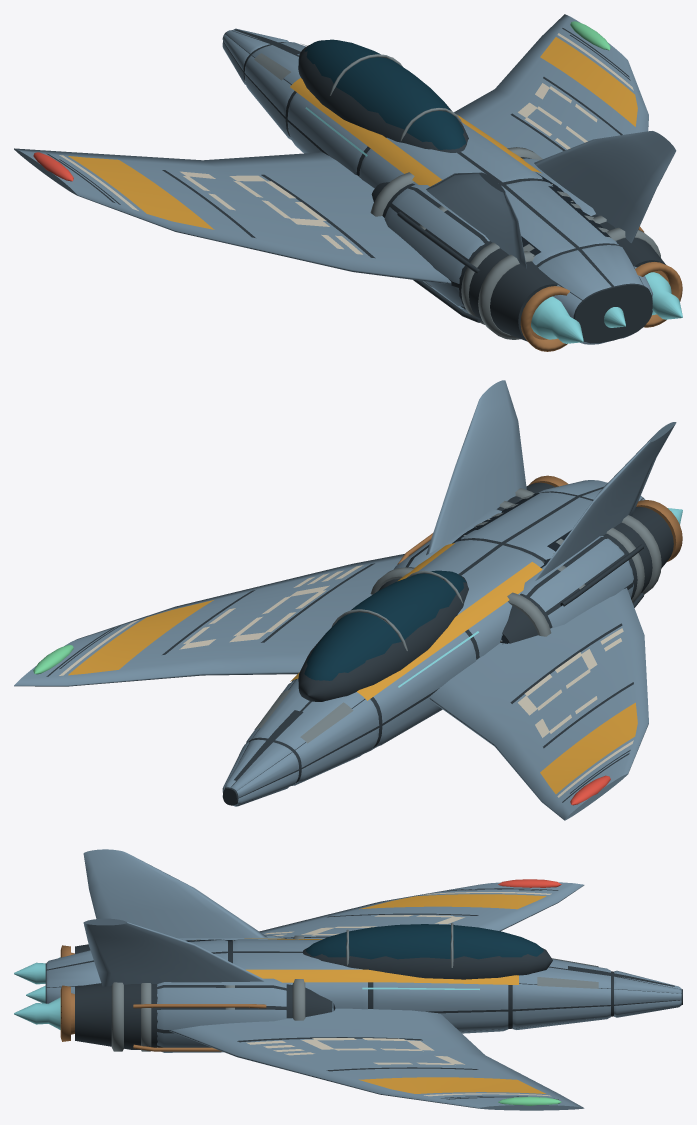
Rendered from hawk.glb.
3 renders of one model, top to bottom at view 1: azimuth 30°, elevation 25°; view 2: azimuth 150°, elevation 25°; view 3: azimuth 270°, elevation 25°, orthographic. The views are drawn at different scales.
Visible parts, largest first — view 1: hawk; view 2: hawk; view 3: hawk.
Part boxes in pixels (x1,y1,x2,y2): hawk: [14, 14, 682, 351]; hawk: [14, 380, 682, 820]; hawk: [14, 849, 682, 1110].
Size of the model in its own units: 6.97 by 2.11 by 8.82.
